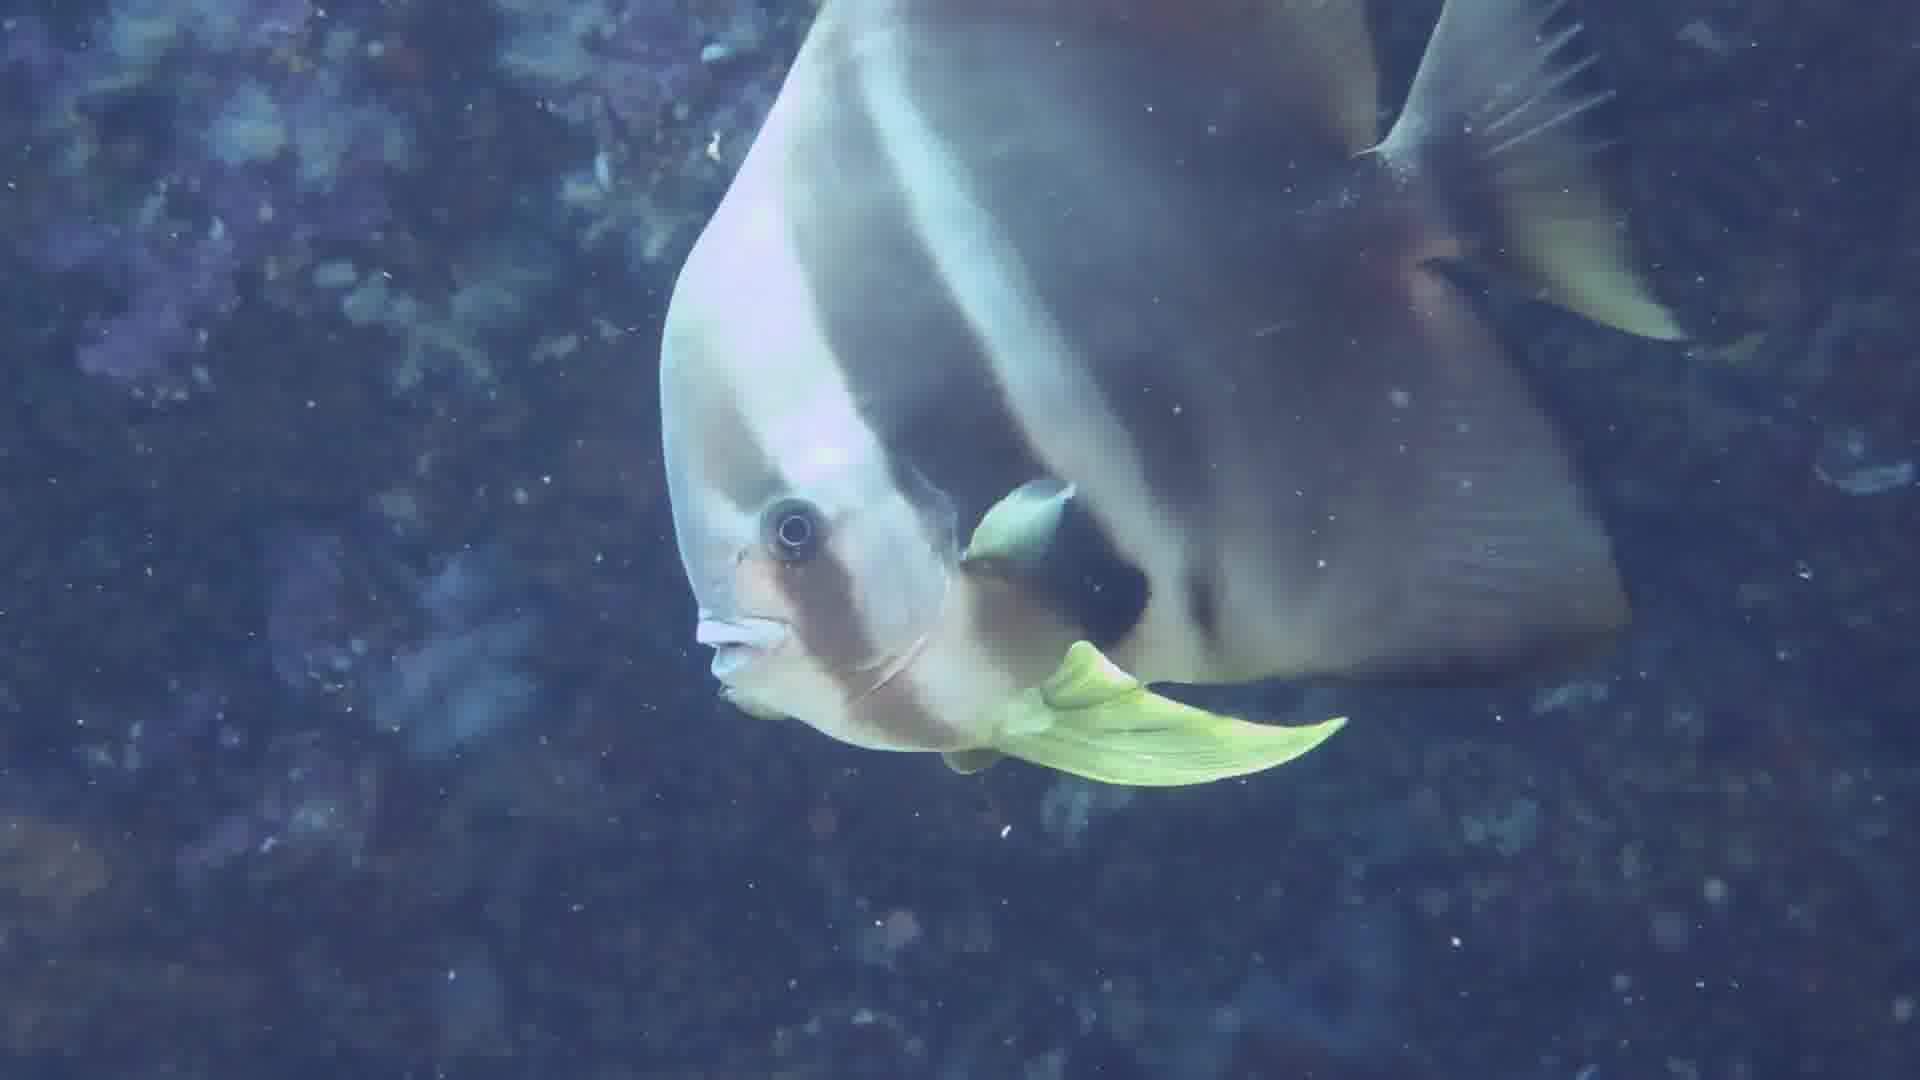Platax teira: (641, 1, 1725, 957)
